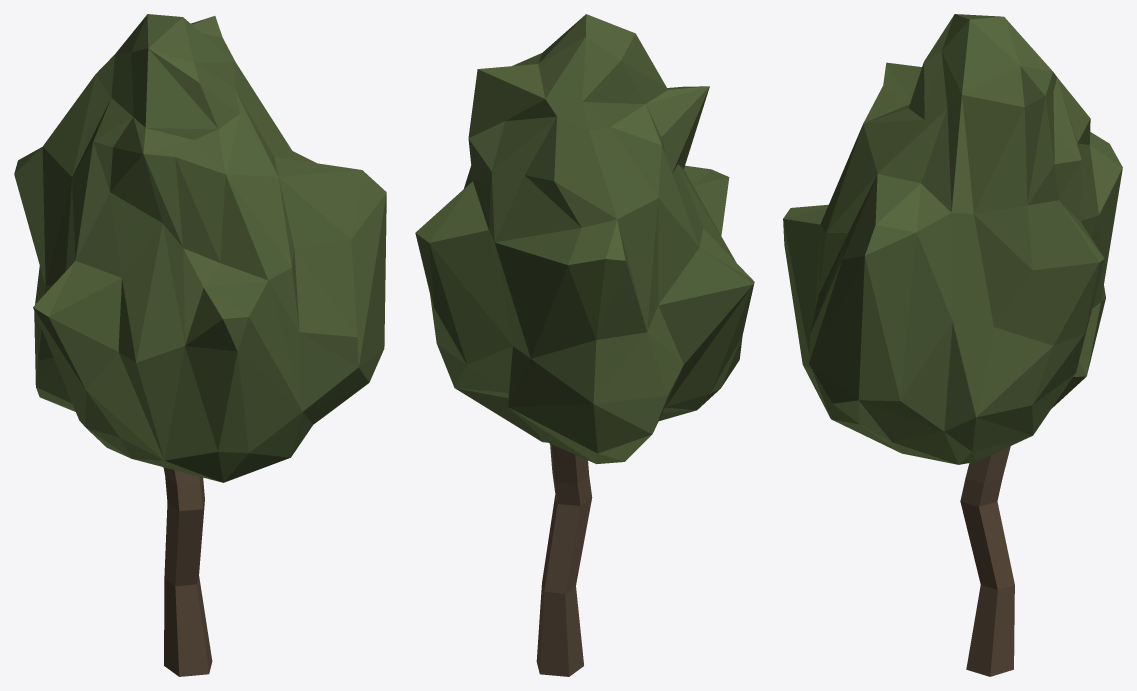
File: GardenTree.obj
3 renders of one model, left to right at view 1: azimuth 30°, elevation 25°; view 2: azimuth 150°, elevation 25°; view 3: azimuth 270°, elevation 25°, orthographic. The views are drawn at different scales.
Visible parts, largest first — view 1: GardenTree; view 2: GardenTree; view 3: GardenTree.
Boxes of the visible parts, <box> form: GardenTree: <box>14,14,386,676</box>; GardenTree: <box>415,14,754,676</box>; GardenTree: <box>783,14,1122,676</box>.
Bounding box in the file's own units: 2.55 × 5.2 × 2.51.
Materials: 1 (1 with a texture image).
